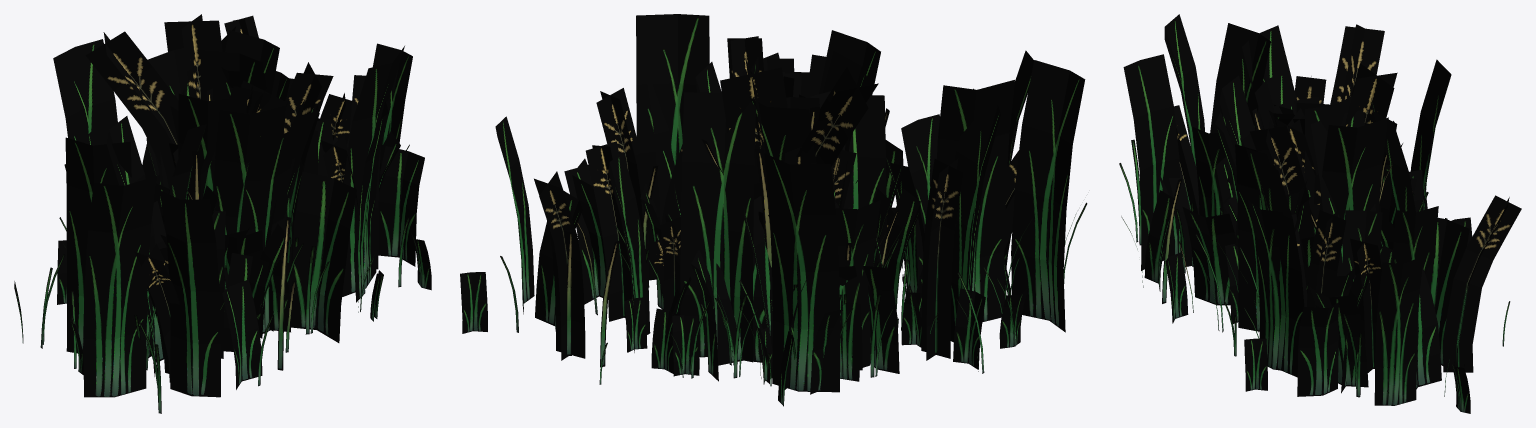
The model's file is FieldLongerGrass_v3_Fuji.glb.
3 views of the same model, side by side, from view 1: azimuth 30°, elevation 25°; view 2: azimuth 150°, elevation 25°; view 3: azimuth 270°, elevation 25° (orthographic). The views are drawn at different scales.
Parts seen in each view (by area): view 1: FieldLongerGrass_7, FieldLongerGrass_8, FieldLongerGrass_5, FieldLongerGrass_4, FieldLongerGrass_6, FieldLongerGrass_0, FieldLongerGrass_9, FieldLongerGrass_1, FieldLongerGrass_2, FieldLongerGrass_3; view 2: FieldLongerGrass_4, FieldLongerGrass_7, FieldLongerGrass_8, FieldLongerGrass_5, FieldLongerGrass_9, FieldLongerGrass_0, FieldLongerGrass_6, FieldLongerGrass_1, FieldLongerGrass_2; view 3: FieldLongerGrass_7, FieldLongerGrass_8, FieldLongerGrass_4, FieldLongerGrass_1, FieldLongerGrass_5, FieldLongerGrass_6, FieldLongerGrass_0, FieldLongerGrass_9, FieldLongerGrass_2.
Part boxes in pixels (x1,y1,x2,y2): FieldLongerGrass_7: (70,15,412,413); FieldLongerGrass_8: (53,39,431,376); FieldLongerGrass_5: (59,48,388,358); FieldLongerGrass_4: (14,26,409,370); FieldLongerGrass_6: (85,31,324,311); FieldLongerGrass_0: (156,14,333,280); FieldLongerGrass_9: (154,96,317,291); FieldLongerGrass_1: (57,30,383,334); FieldLongerGrass_2: (155,106,303,338); FieldLongerGrass_3: (229,78,270,113); FieldLongerGrass_4: (564,88,1015,384); FieldLongerGrass_7: (460,50,1087,360); FieldLongerGrass_8: (572,14,1034,392); FieldLongerGrass_5: (615,72,985,406); FieldLongerGrass_9: (700,30,908,389); FieldLongerGrass_0: (720,36,889,267); FieldLongerGrass_6: (754,51,891,267); FieldLongerGrass_1: (647,52,921,347); FieldLongerGrass_2: (668,94,904,304); FieldLongerGrass_7: (1119,14,1521,413); FieldLongerGrass_8: (1159,59,1451,396); FieldLongerGrass_4: (1162,25,1510,387); FieldLongerGrass_1: (1195,117,1402,332); FieldLongerGrass_5: (1165,99,1472,370); FieldLongerGrass_6: (1217,24,1414,293); FieldLongerGrass_0: (1233,63,1397,286); FieldLongerGrass_9: (1219,76,1447,332); FieldLongerGrass_2: (1215,97,1381,322).
Size of the model in its own units: 1.13 by 0.7032 by 0.9956.
1 material, 1 textured.
